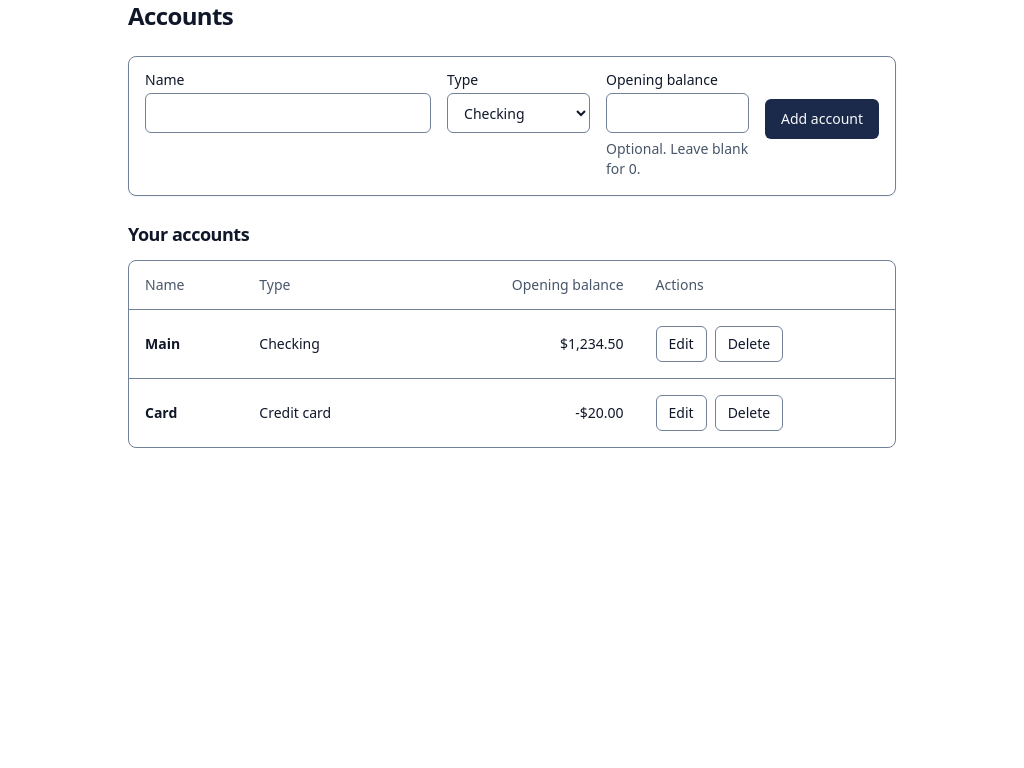
Test case: AccountsPage edit and delete › T-027 a 409 on DELETE closes the dialog, keeps the row and says the account is in use
Expected: the table is shown, top-left (129, 261), bottom-right (895, 446)
Click the button with aria-label "Delete Main": (749,344) top-left (715, 326), bottom-right (783, 362)
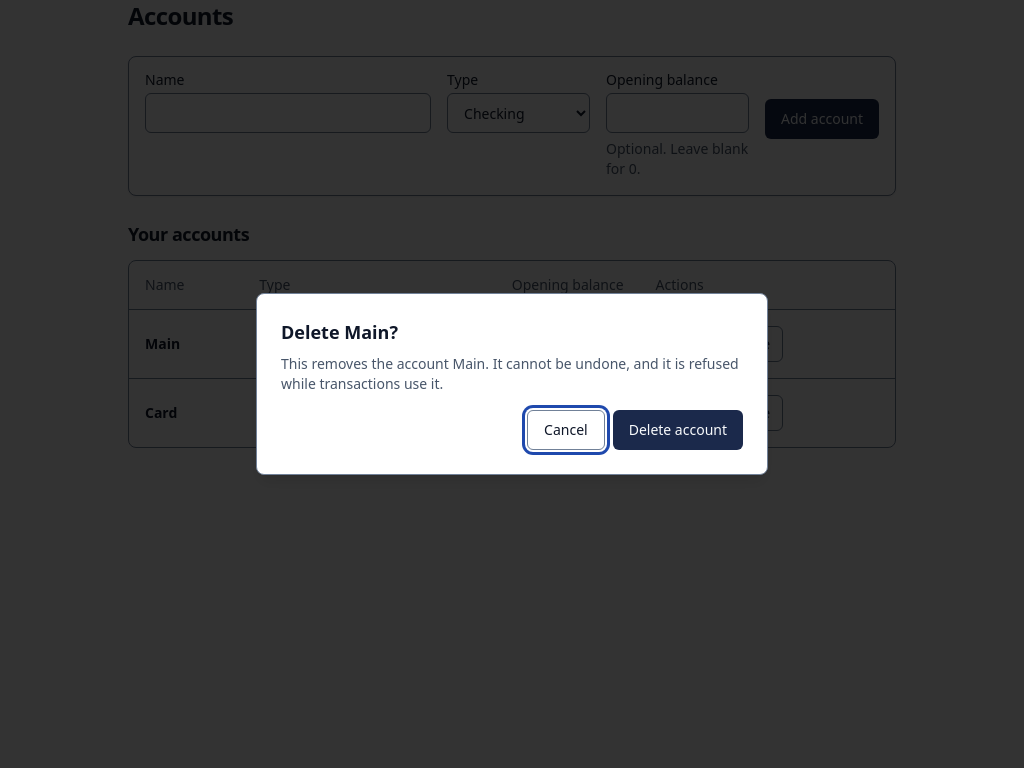
Click the button "Delete account": (678,430) top-left (613, 410), bottom-right (743, 450)
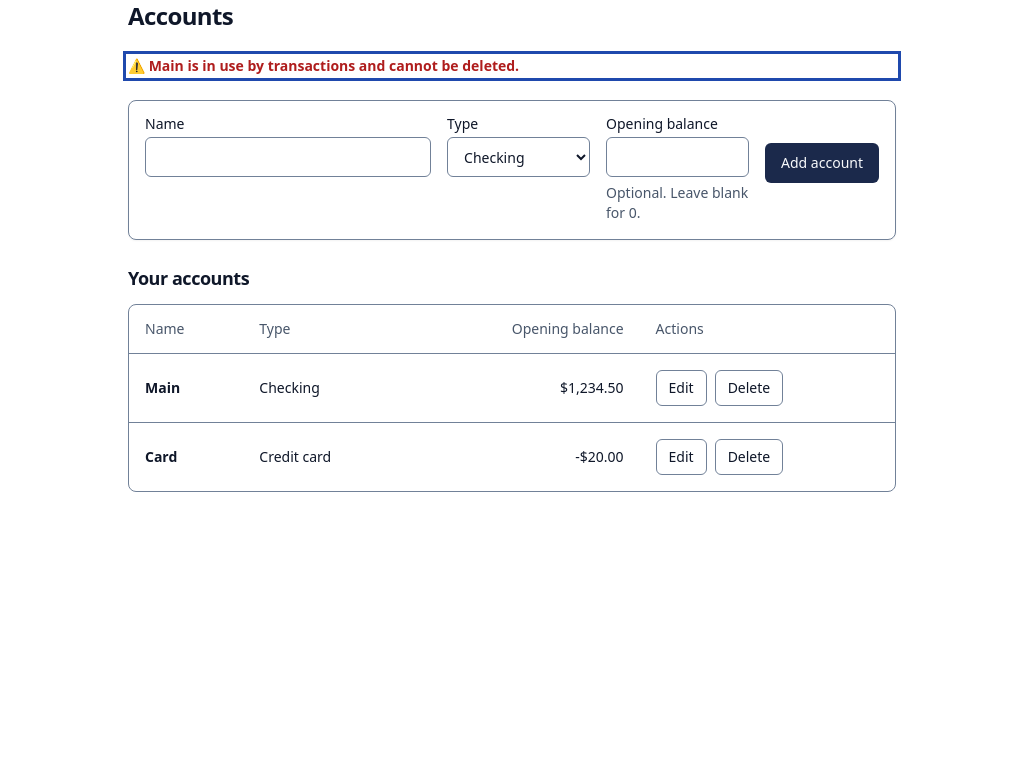
Expected: the column heading "Main" is shown, top-left (129, 354), bottom-right (243, 422)
Expected: the message shows "Main is in use by transactions and cannot be deleted.", top-left (149, 56), bottom-right (519, 75)
Expected: the dialog is gone
